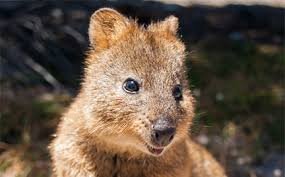quokka: (43, 11, 221, 177)
